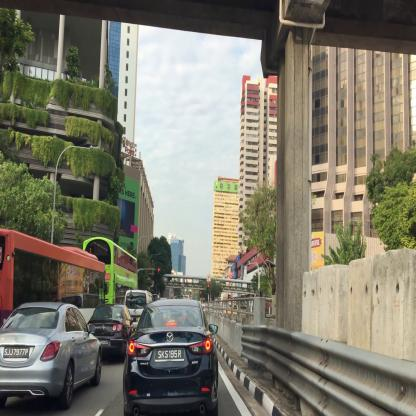red_traffic_light: (207, 283, 209, 292), (155, 268, 159, 272)
